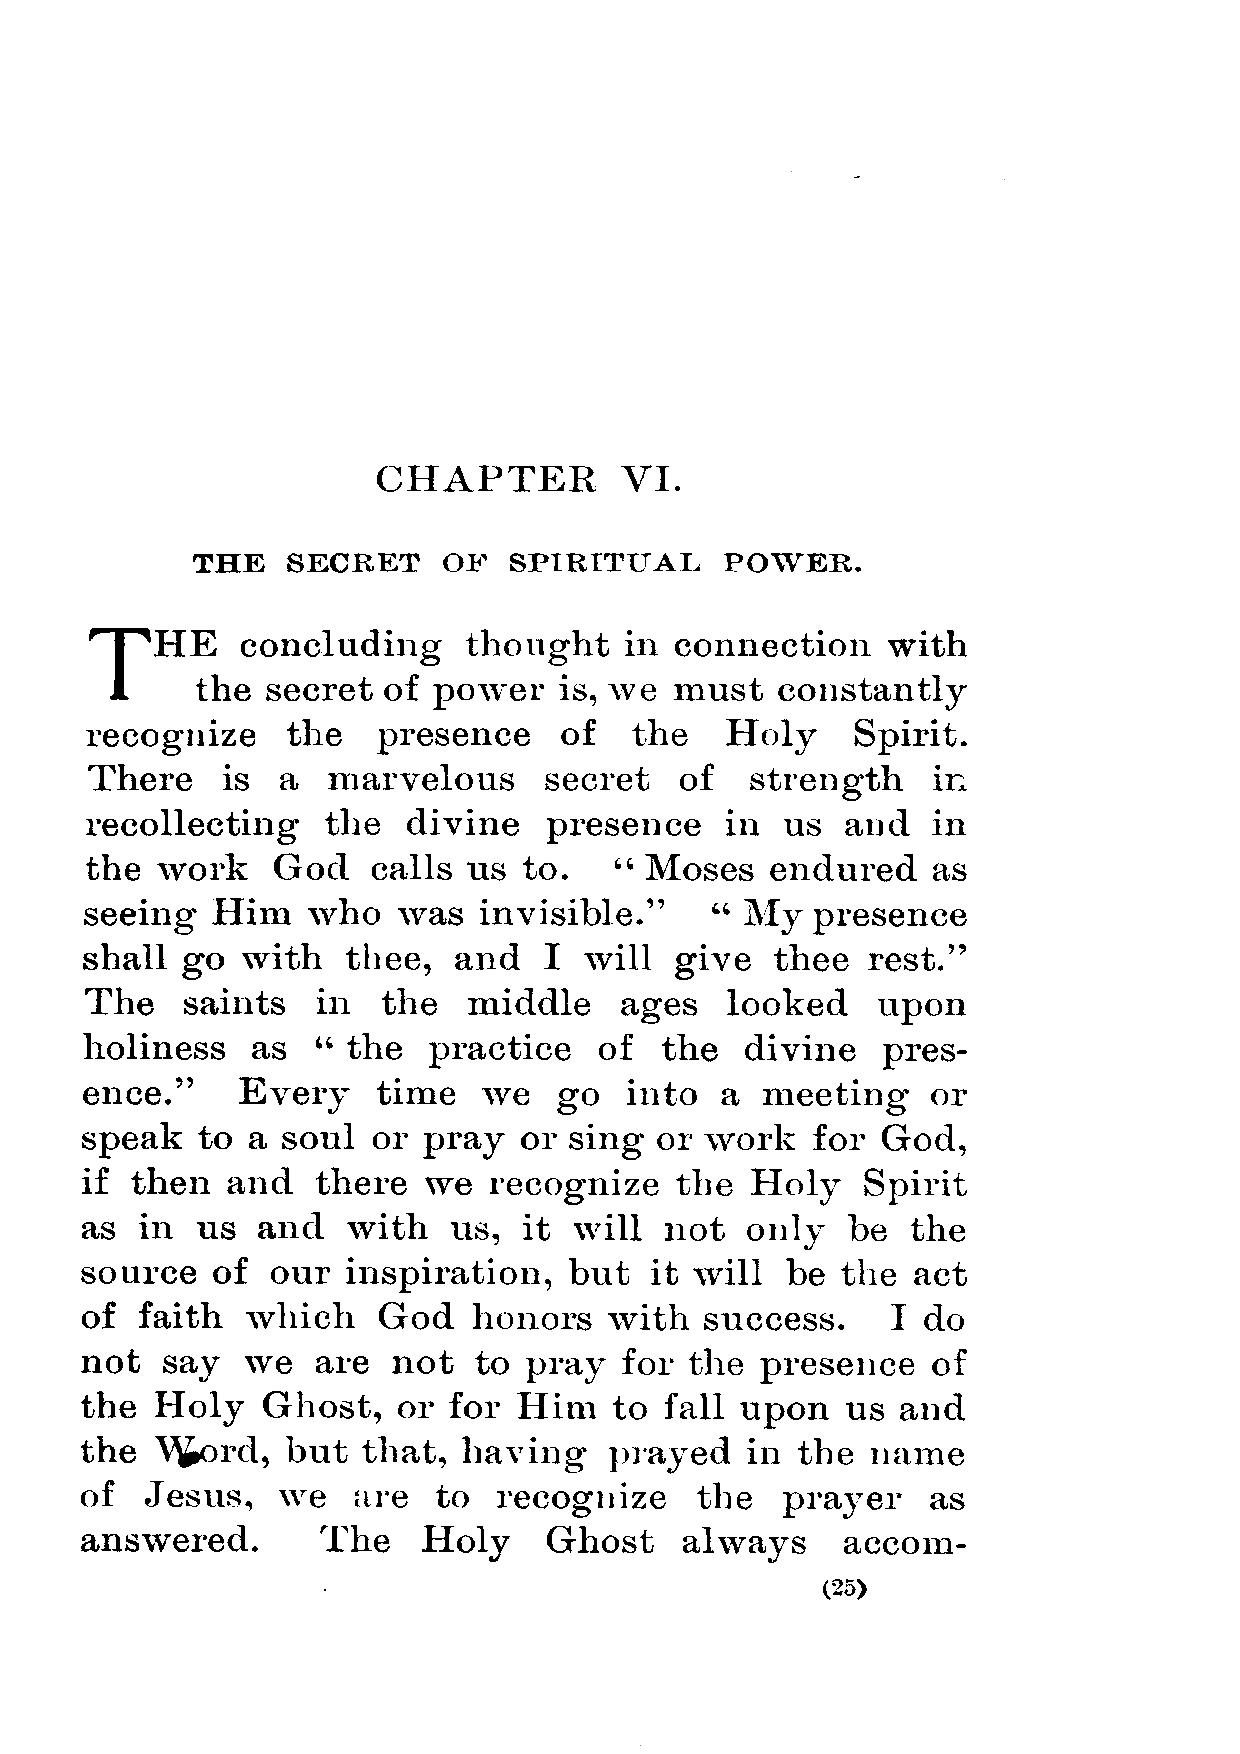chapter: (191, 459, 864, 577)
content: (79, 619, 968, 1569)
content_pagenumber: (829, 1576, 855, 1600)
